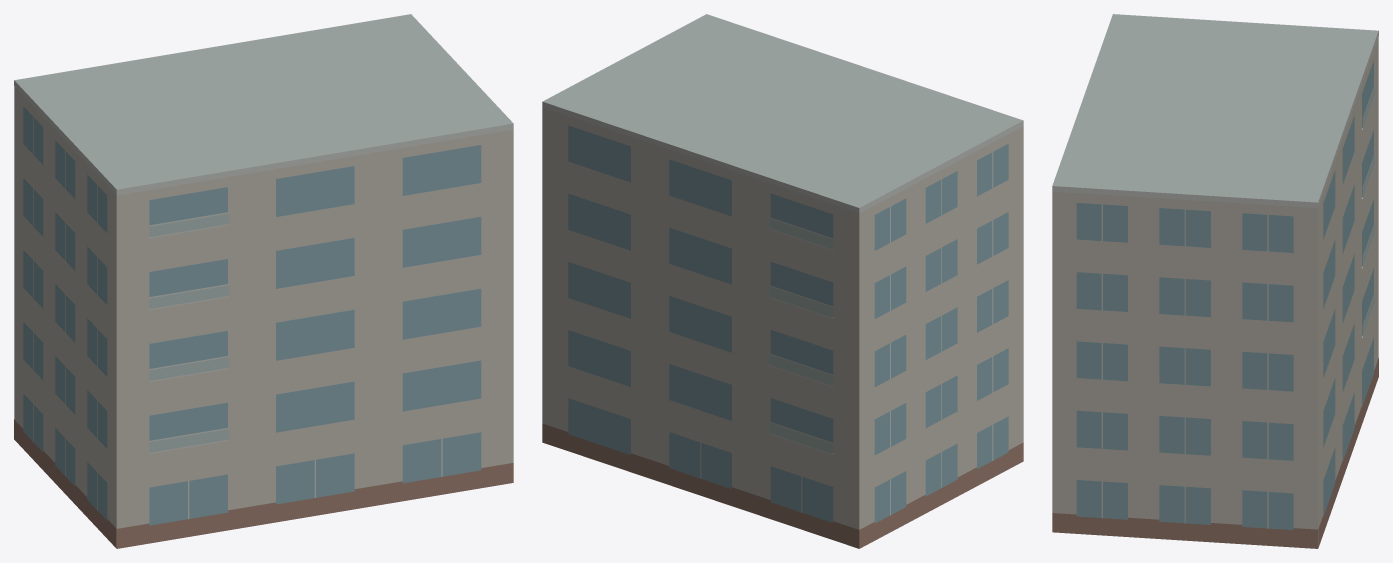
The model's file is survey-upis-32664513.glb.
The picture shows the model from 3 angles, left to right: view 1: azimuth 30°, elevation 25°; view 2: azimuth 150°, elevation 25°; view 3: azimuth 270°, elevation 25°; orthographic projection. The views are drawn at different scales.
Visible parts, largest first — view 1: survey-upis-32664513.tmp; view 2: survey-upis-32664513.tmp; view 3: survey-upis-32664513.tmp.
Boxes of the visible parts, x1,y1,x2,y2 form: survey-upis-32664513.tmp: (14,14,513,548); survey-upis-32664513.tmp: (542,14,1023,548); survey-upis-32664513.tmp: (1052,14,1378,548).
Bounding box in the file's own units: 17.82 × 15.25 × 13.04.
